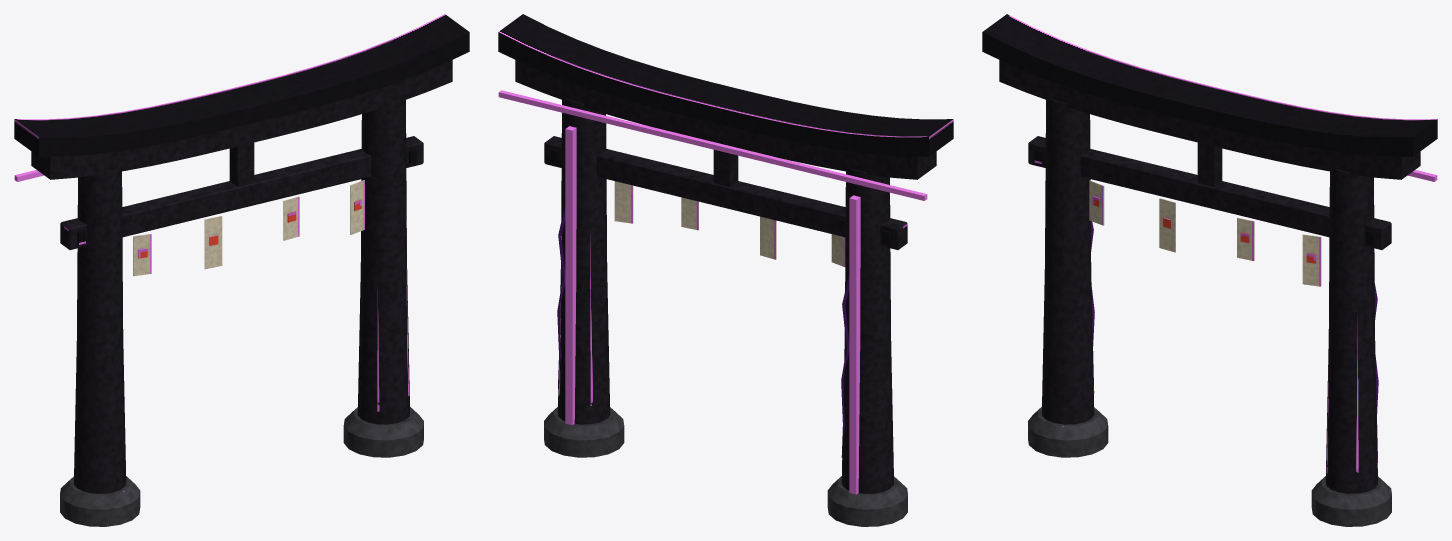
Rendered from demon_gate.fbx.
3 renders of one model, left to right at view 1: azimuth 30°, elevation 25°; view 2: azimuth 150°, elevation 25°; view 3: azimuth 330°, elevation 25°, orthographic.
Visible parts, largest first — view 1: demon_gate; view 2: demon_gate, demon_gate_glow; view 3: demon_gate.
Boxes of the visible parts, x1,y1,x2,y2 form: demon_gate: (14,14,469,526); demon_gate: (498,14,953,526); demon_gate_glow: (498,90,927,494); demon_gate: (982,14,1437,526).
Size of the model in its own units: 1820 by 1615 by 297.
1 material, 1 textured.
